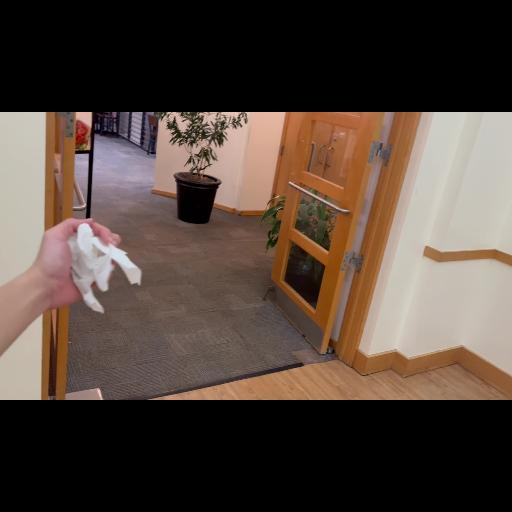napkin: (59, 218, 143, 322)
